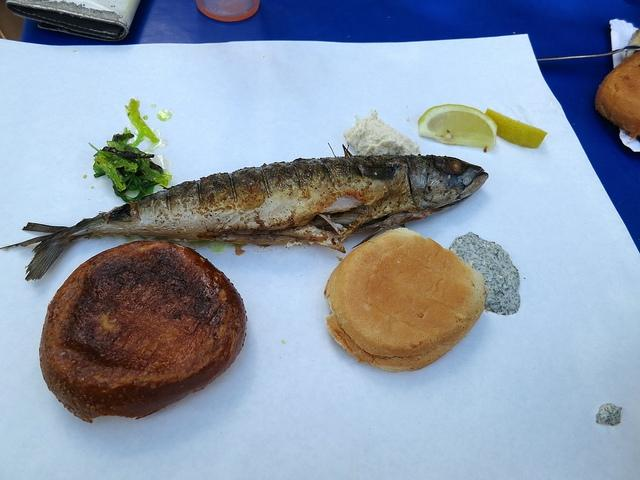lemon: (418, 104, 498, 151), (485, 108, 548, 149)
